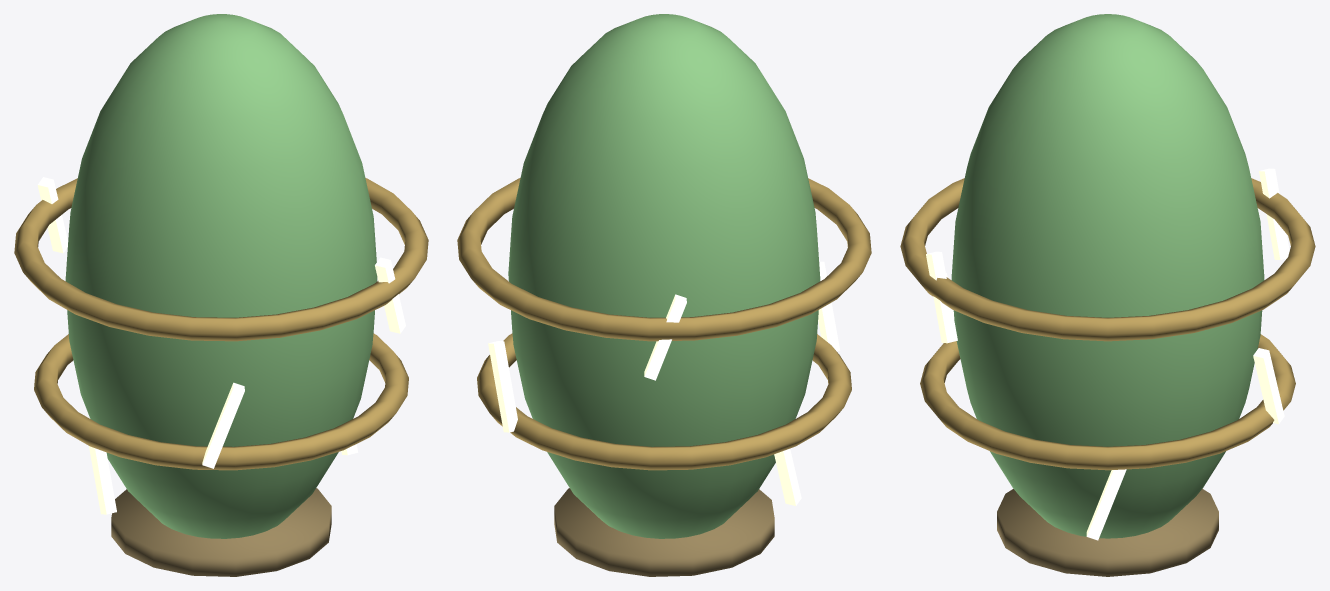
Rendered from egg_forest_06.glb.
3 renders of one model, left to right at view 1: azimuth 30°, elevation 25°; view 2: azimuth 150°, elevation 25°; view 3: azimuth 270°, elevation 25°, orthographic.
Visible parts, largest first — view 1: ball; view 2: ball; view 3: ball.
Boxes of the visible parts, x1,y1,x2,y2 form: ball: (14, 14, 428, 576); ball: (457, 14, 871, 576); ball: (900, 14, 1315, 576).
Size of the model in its own units: 0.8225 by 1.12 by 0.8225.
